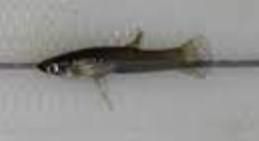Mosquito Fish: (37, 30, 215, 111)
